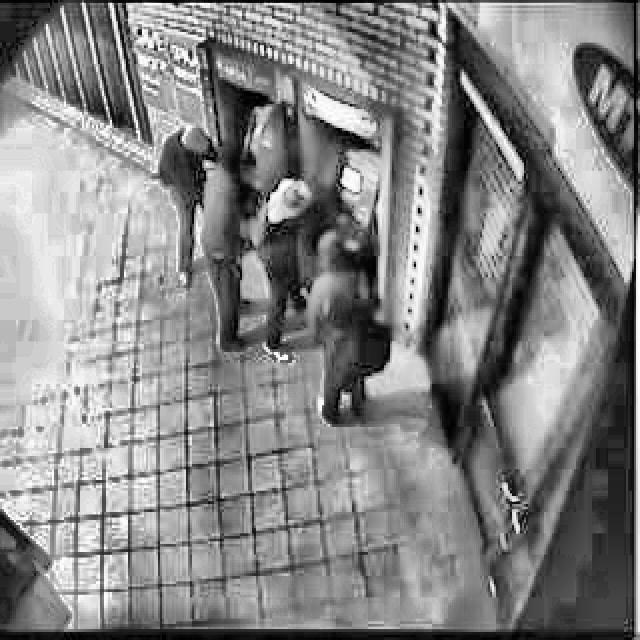burglary: (153, 90, 396, 429)
